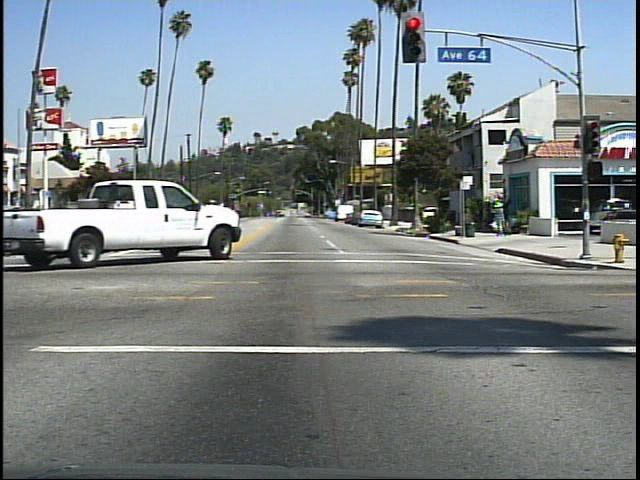person: (492, 196, 512, 240)
